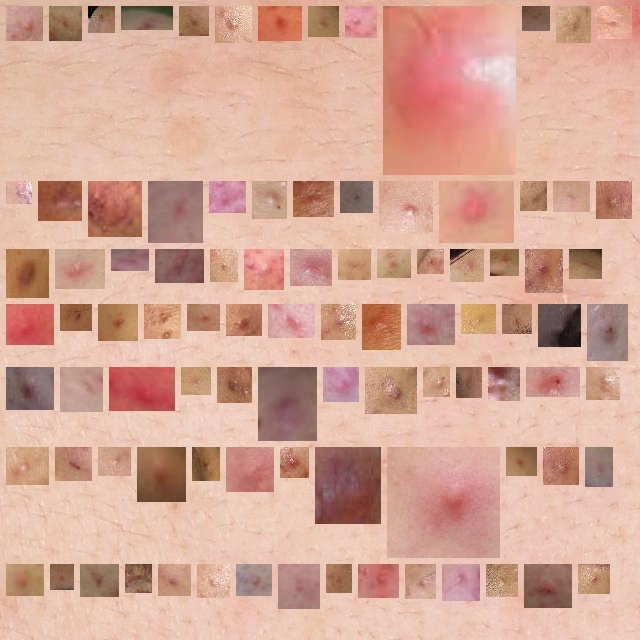papule: (391, 14, 508, 167), (395, 455, 492, 550), (323, 455, 373, 516), (447, 189, 506, 235), (266, 375, 309, 433), (156, 189, 195, 235), (96, 189, 134, 229), (117, 375, 167, 403), (387, 189, 425, 224), (145, 455, 178, 494), (373, 375, 409, 406), (595, 312, 620, 353), (234, 455, 266, 484), (532, 572, 564, 600), (14, 257, 41, 290), (14, 375, 46, 402), (63, 257, 97, 281), (14, 312, 46, 337), (415, 312, 447, 337), (534, 375, 572, 396), (68, 375, 95, 404), (286, 572, 312, 601), (546, 312, 573, 339), (370, 312, 393, 342), (46, 189, 74, 213), (533, 257, 555, 285), (252, 257, 276, 282), (163, 257, 196, 275), (14, 455, 41, 477), (276, 312, 307, 330), (298, 257, 324, 278), (129, 14, 165, 29), (266, 14, 294, 33), (106, 312, 130, 333), (301, 189, 326, 209), (450, 572, 472, 593), (366, 572, 391, 590), (223, 14, 244, 35), (604, 189, 624, 211), (551, 455, 571, 477), (260, 189, 279, 211), (14, 14, 35, 33), (564, 14, 583, 35), (152, 312, 173, 331), (88, 572, 111, 589), (329, 312, 348, 332), (225, 375, 244, 395), (331, 375, 351, 394), (63, 455, 84, 473), (14, 572, 36, 588), (217, 189, 238, 205), (57, 14, 74, 33), (605, 14, 624, 31), (234, 312, 254, 328), (244, 572, 264, 588), (561, 189, 582, 204), (458, 257, 476, 274), (594, 375, 612, 392), (205, 572, 222, 590), (496, 375, 512, 393), (593, 455, 605, 479), (413, 572, 428, 591), (348, 189, 365, 205), (166, 572, 183, 588), (494, 572, 510, 589), (469, 312, 488, 326), (353, 14, 369, 30), (346, 257, 363, 272), (577, 257, 594, 271), (385, 257, 403, 270), (316, 14, 331, 29), (586, 572, 602, 586), (106, 455, 123, 468), (200, 455, 212, 473), (218, 257, 230, 274), (187, 14, 201, 28), (510, 312, 524, 326), (288, 455, 301, 470), (514, 455, 529, 468), (195, 312, 212, 323), (68, 312, 84, 323), (189, 375, 203, 387), (528, 189, 539, 203), (431, 375, 442, 389), (464, 375, 474, 390), (498, 257, 511, 268), (133, 572, 144, 585), (334, 572, 344, 585), (96, 14, 107, 25), (530, 14, 542, 23), (425, 257, 436, 266), (58, 572, 66, 582), (14, 189, 24, 196)
